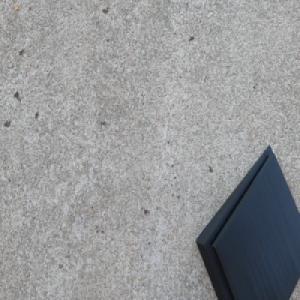PlasticPart: (195, 144, 300, 300)
